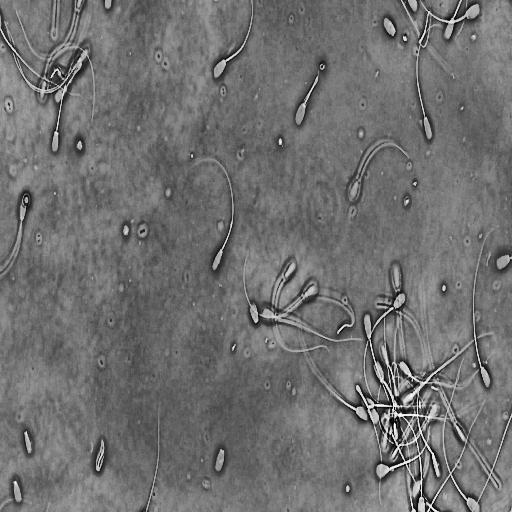coiled-tail: (97, 437, 104, 467)
dirt-particles: (74, 135, 85, 154), (21, 190, 31, 210), (121, 221, 130, 240), (403, 196, 411, 209), (319, 59, 327, 72), (277, 135, 284, 149), (402, 34, 408, 43), (412, 179, 418, 187)
folded-tail: (356, 384, 382, 506), (304, 75, 319, 106)
loose-head: (248, 299, 262, 327), (494, 251, 511, 273), (213, 446, 226, 474), (12, 477, 24, 506), (382, 15, 397, 38), (23, 428, 34, 456)
loose-tail: (468, 410, 512, 512), (302, 291, 357, 336), (144, 400, 162, 512), (400, 0, 433, 52)
normal: (362, 309, 411, 486), (295, 313, 371, 422), (441, 354, 482, 512), (373, 373, 431, 482), (414, 22, 465, 143), (270, 256, 330, 358), (187, 152, 236, 272), (36, 38, 96, 129), (471, 222, 501, 391), (363, 290, 407, 405), (347, 139, 410, 203), (50, 33, 83, 154), (353, 378, 384, 505), (211, 0, 255, 81), (0, 198, 28, 278), (292, 67, 321, 130), (418, 0, 481, 26), (442, 0, 463, 42), (94, 437, 106, 474)
